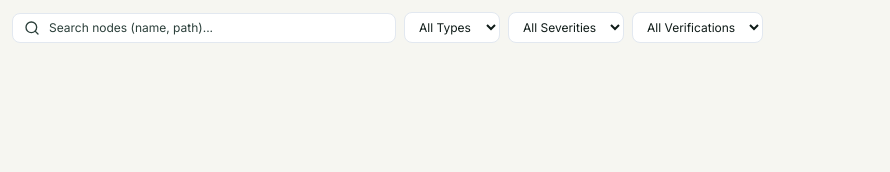
Test: GraphSearchFilters & Breadcrumbs (Step 11b Part A) › displays "No matching nodes" message when search returns empty results
This screenshot has width=890, height=172.
Type "zzzz" into the search field labelled "Search nodes" at (204, 28), box [12, 12, 396, 42]
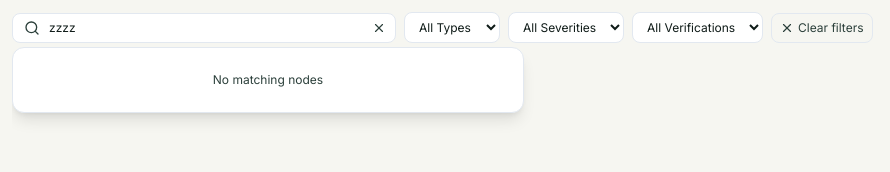
Expected: the text with test id "no-matching-nodes" reads "No matching nodes", [213, 72, 323, 87]
